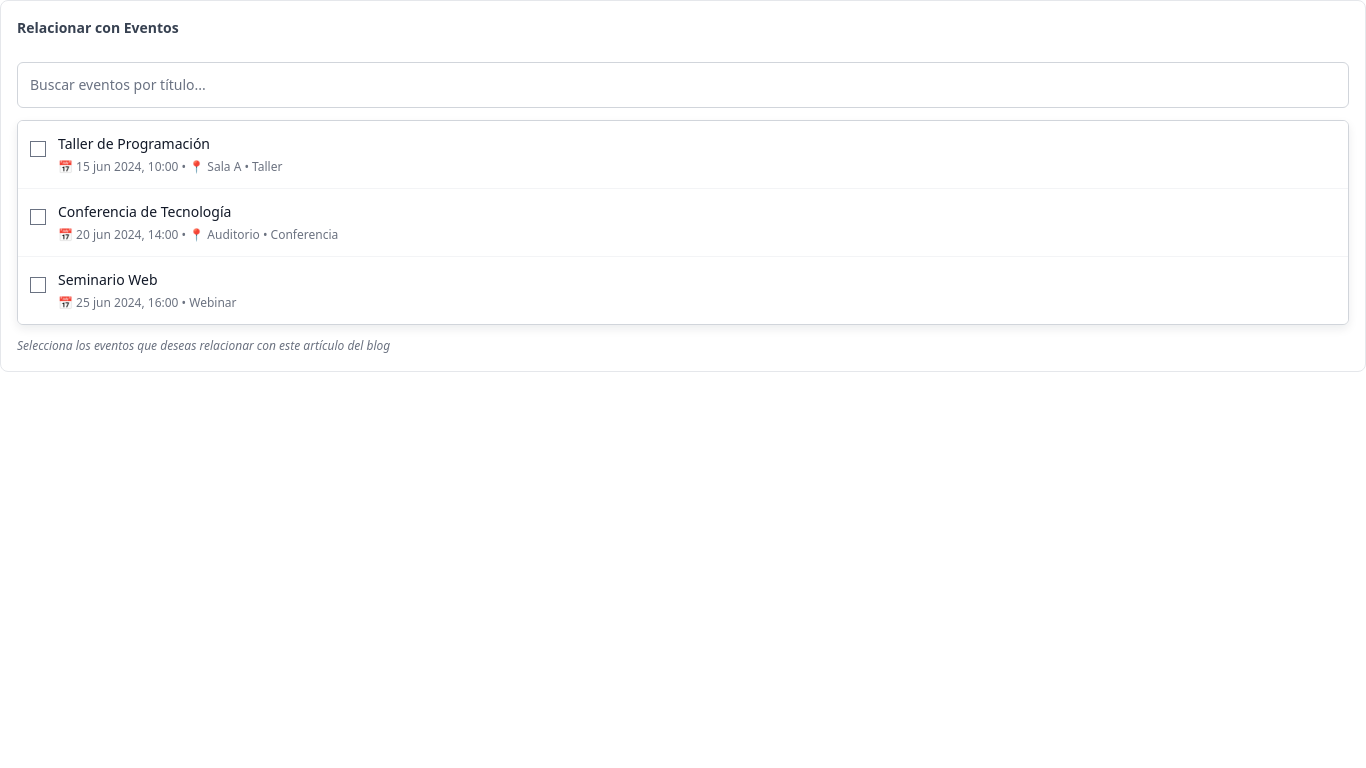
Test: BlogEventRelation › Event Selection › should allow selecting multiple events
Check: the text "Taller de Programación" is shown, box [58,134,210,153]
Click the button that starts with "Taller de Programación": (134, 144) [18,121,1348,189]
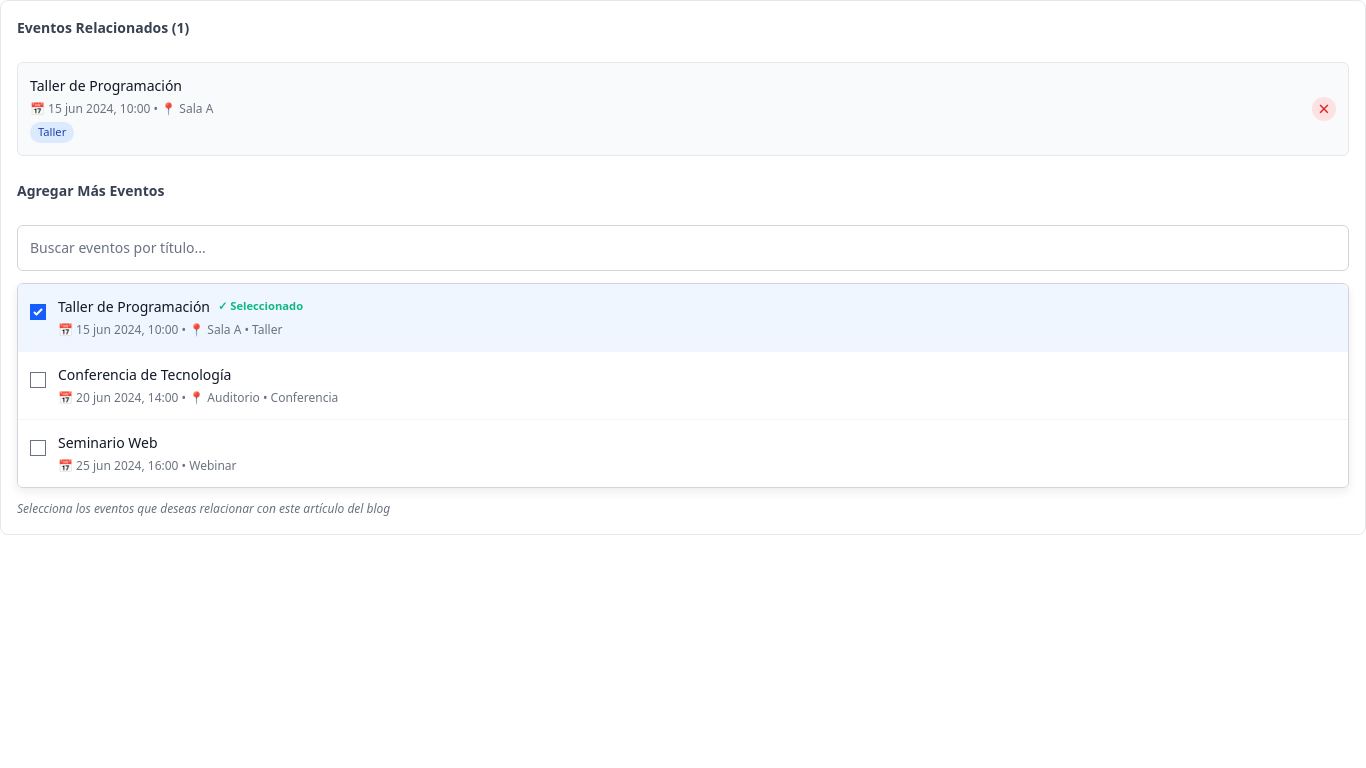
Click the button that starts with "Conferencia de Tecnología": (145, 374) [18,352,1348,420]
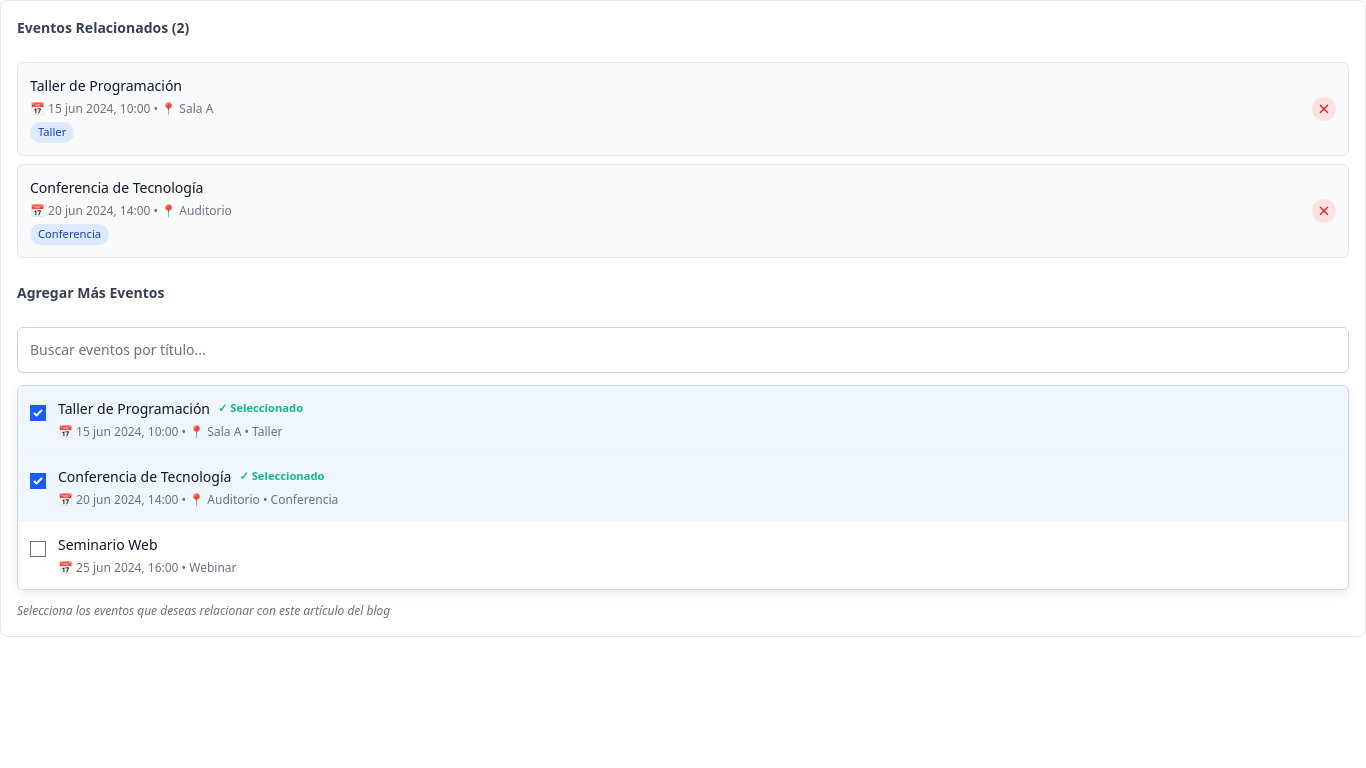
Check: the heading "Eventos Relacionados (2)" is shown, box [17,18,189,37]
